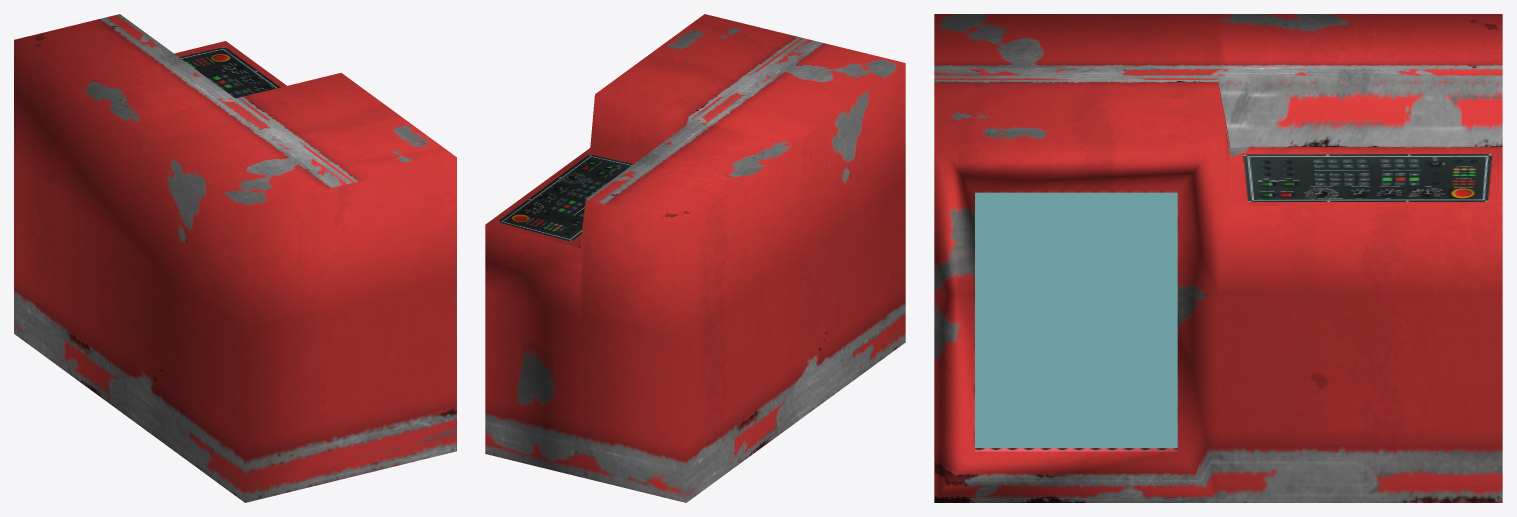
File: Analizador de fluidos.obj
3 views of the same model, side by side, from view 1: azimuth 30°, elevation 25°; view 2: azimuth 150°, elevation 25°; view 3: azimuth 270°, elevation 25° (orthographic). The views are drawn at different scales.
Visible parts, largest first — view 1: Analizador_de_fluidos pCube9; view 2: Analizador_de_fluidos pCube9; view 3: Analizador_de_fluidos pCube9, Analizador_de_fluidos pPlane31.
Boxes of the visible parts, x1,y1,x2,y2 form: Analizador_de_fluidos pCube9: (14,14,456,502); Analizador_de_fluidos pCube9: (485,14,905,502); Analizador_de_fluidos pCube9: (934,14,1502,502); Analizador_de_fluidos pPlane31: (975,192,1177,448).
Size of the model in its own units: 52.9 by 70.23 by 100.
